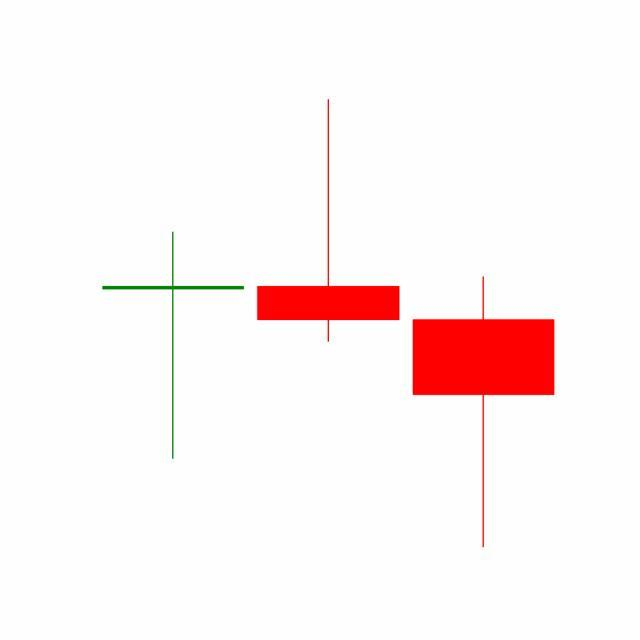Gravestone Doji: (250, 97, 407, 346)
